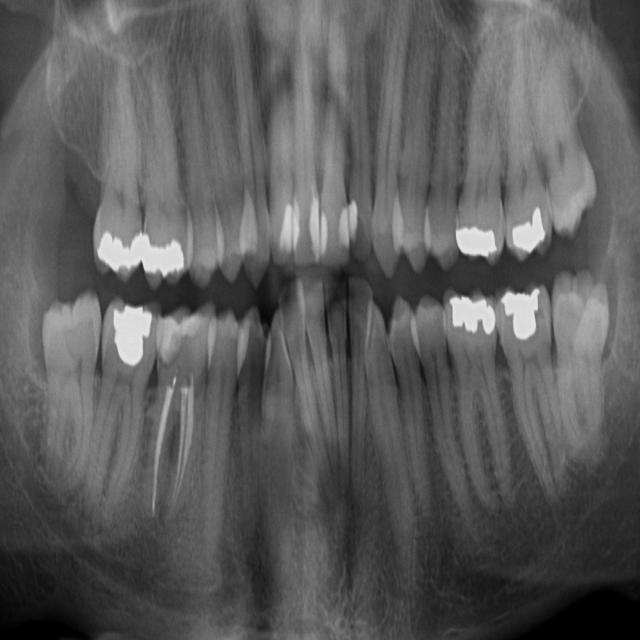dentin-curugu: (327, 281, 353, 320)
dolgu: (104, 299, 158, 369), (444, 288, 495, 344), (495, 286, 542, 342), (141, 228, 190, 277), (95, 228, 142, 276), (506, 203, 546, 256), (451, 218, 498, 262), (304, 194, 333, 254), (155, 315, 185, 361), (276, 199, 298, 254), (337, 195, 358, 248)
kanal-tedavisi: (152, 370, 200, 510)
